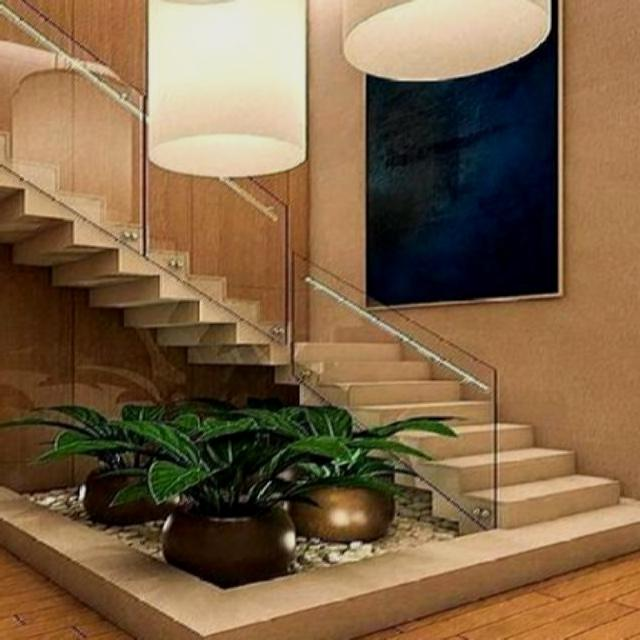stair: (280, 292, 631, 556), (1, 105, 326, 382)
